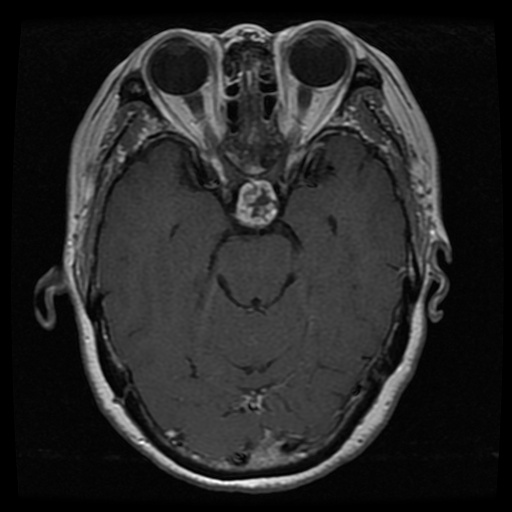pituitary: (234, 178, 277, 228)
